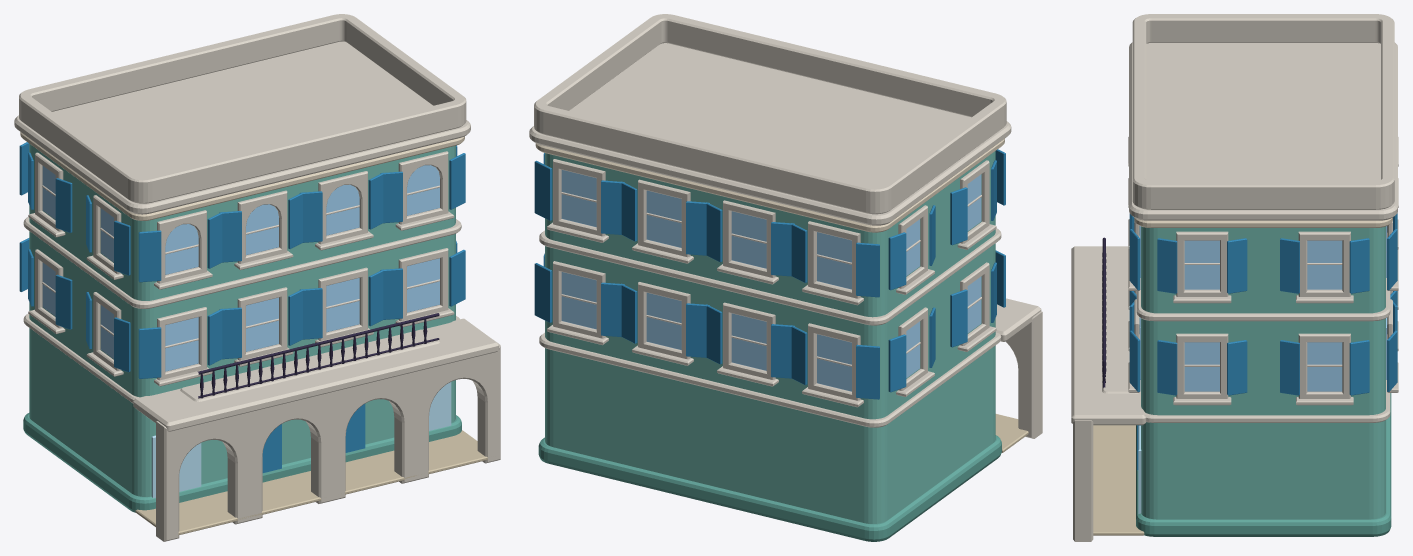
The model's file is casa_g.glb.
The picture shows the model from 3 angles, left to right: view 1: azimuth 30°, elevation 25°; view 2: azimuth 150°, elevation 25°; view 3: azimuth 270°, elevation 25°; orthographic projection. The views are drawn at different scales.
Parts seen in each view (by area): view 1: casa_g_corpo, casa_g_vidro; view 2: casa_g_corpo, casa_g_vidro; view 3: casa_g_corpo, casa_g_vidro.
Part boxes in pixels (box(x1,y1,x2,y2)): casa_g_corpo: box(14, 14, 500, 541); casa_g_vidro: box(42, 165, 451, 498); casa_g_corpo: box(529, 14, 1042, 541); casa_g_vidro: box(561, 170, 981, 391); casa_g_corpo: box(1071, 14, 1398, 541); casa_g_vidro: box(1138, 226, 1386, 513).
Size of the model in its own units: 12.24 by 11.54 by 9.62.
